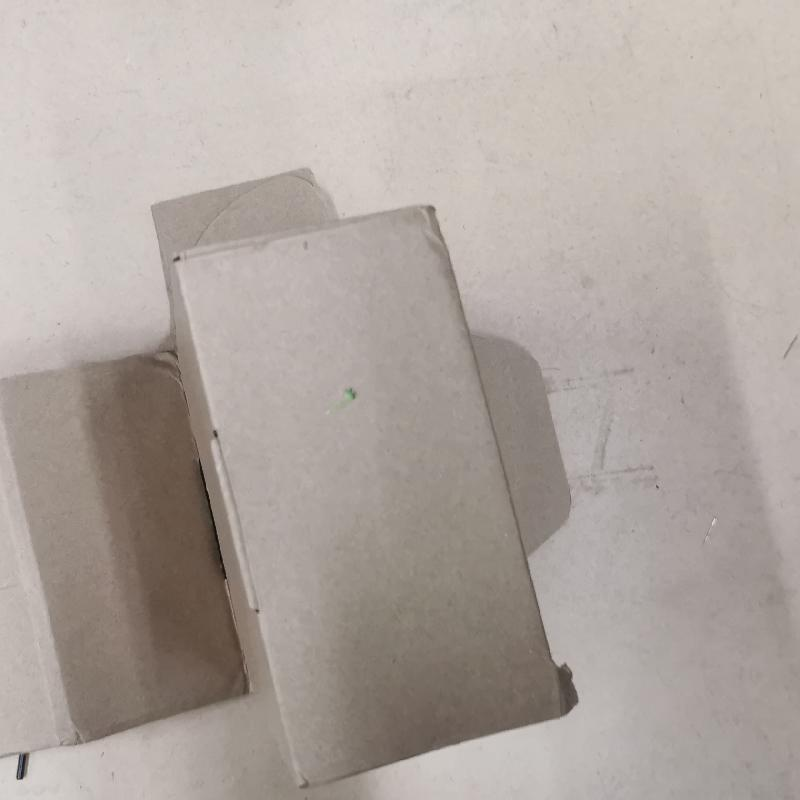boxes: (8, 167, 587, 800)
